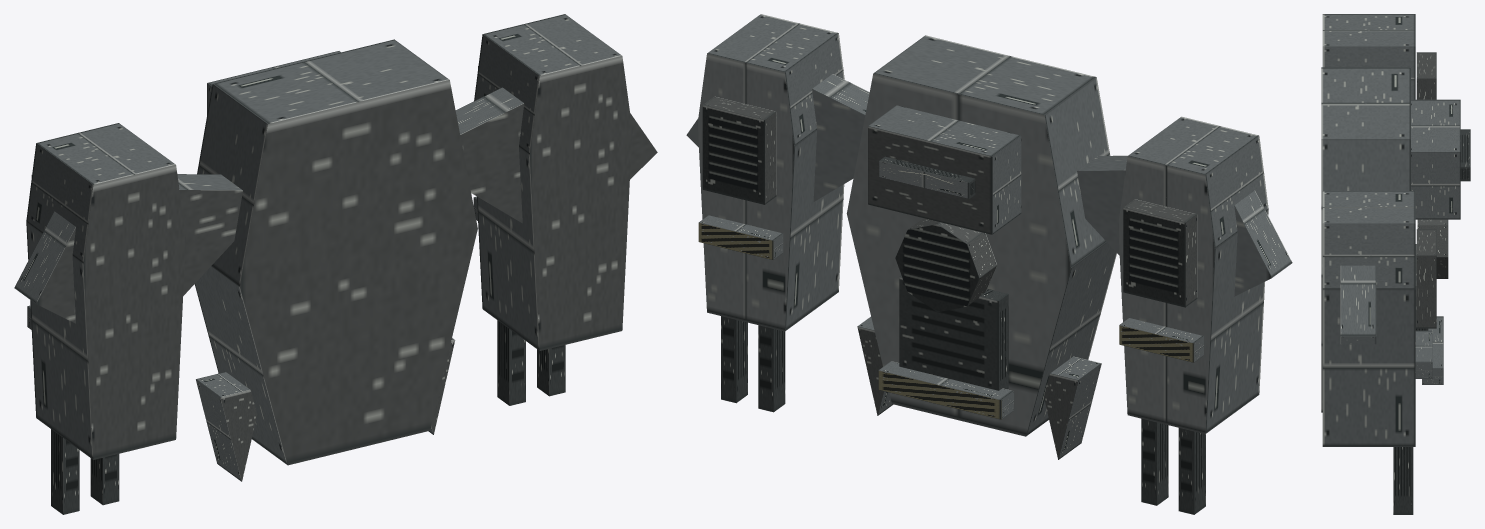
The model's file is Enemy_3.obj.
The picture shows the model from 3 angles, left to right: view 1: azimuth 30°, elevation 25°; view 2: azimuth 150°, elevation 25°; view 3: azimuth 270°, elevation 25°; orthographic projection. The views are drawn at different scales.
Bounding box in the file's own units: 3.76 × 2.22 × 0.965.
Materials: 1 (1 with a texture image).
